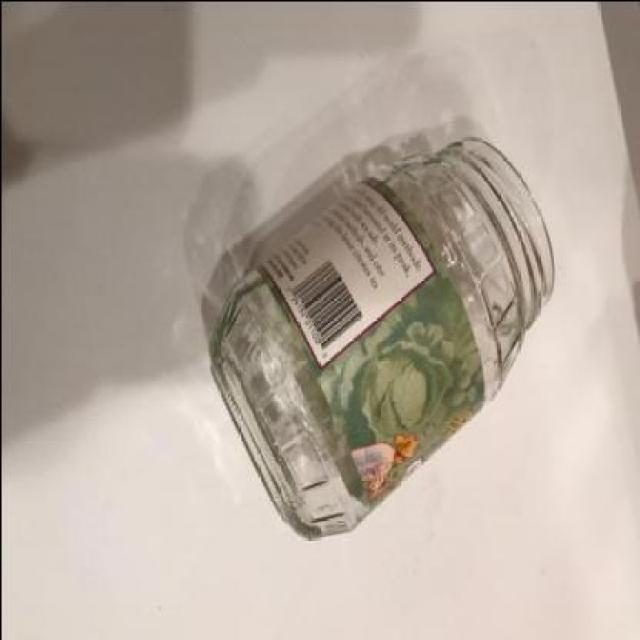glass: (211, 140, 555, 540)
